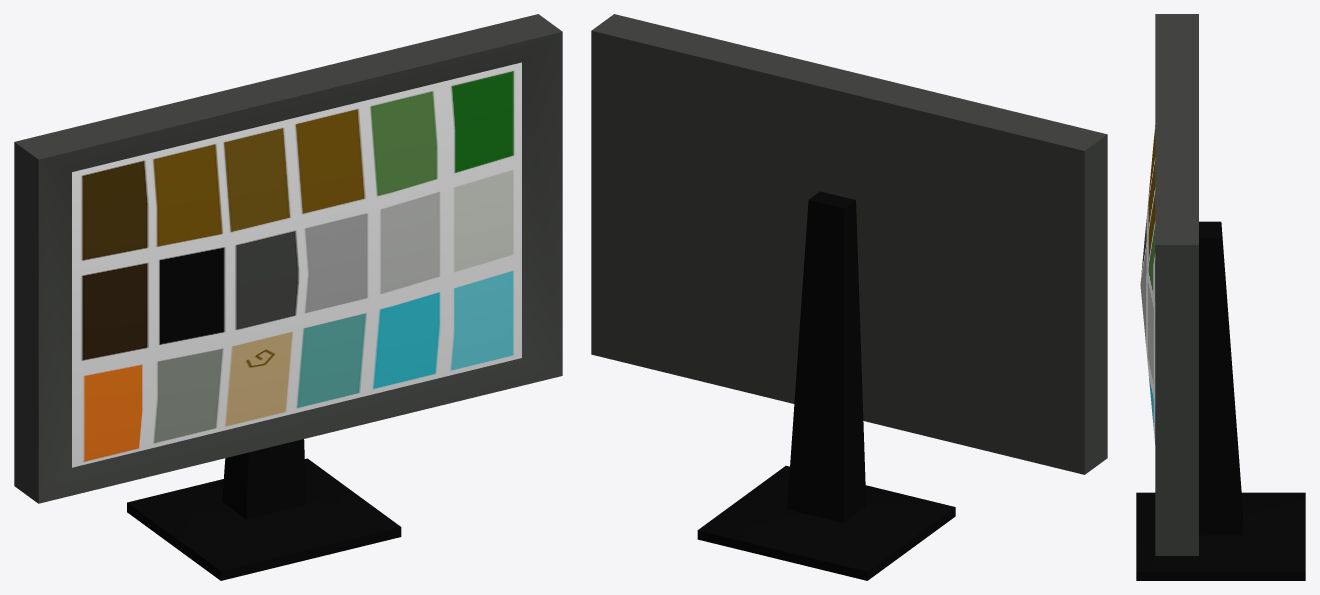
The model's file is soft_monitor.fbx.
The picture shows the model from 3 angles, left to right: view 1: azimuth 30°, elevation 25°; view 2: azimuth 150°, elevation 25°; view 3: azimuth 270°, elevation 25°; orthographic projection. The views are drawn at different scales.
Parts seen in each view (by area): view 1: soft_monitor; view 2: soft_monitor; view 3: soft_monitor.
Boxes of the visible parts, x1,y1,x2,y2 form: soft_monitor: [14, 14, 562, 580]; soft_monitor: [591, 14, 1107, 580]; soft_monitor: [1136, 14, 1305, 580].
Size of the model in its own units: 2.46 by 2.04 by 0.7631.
